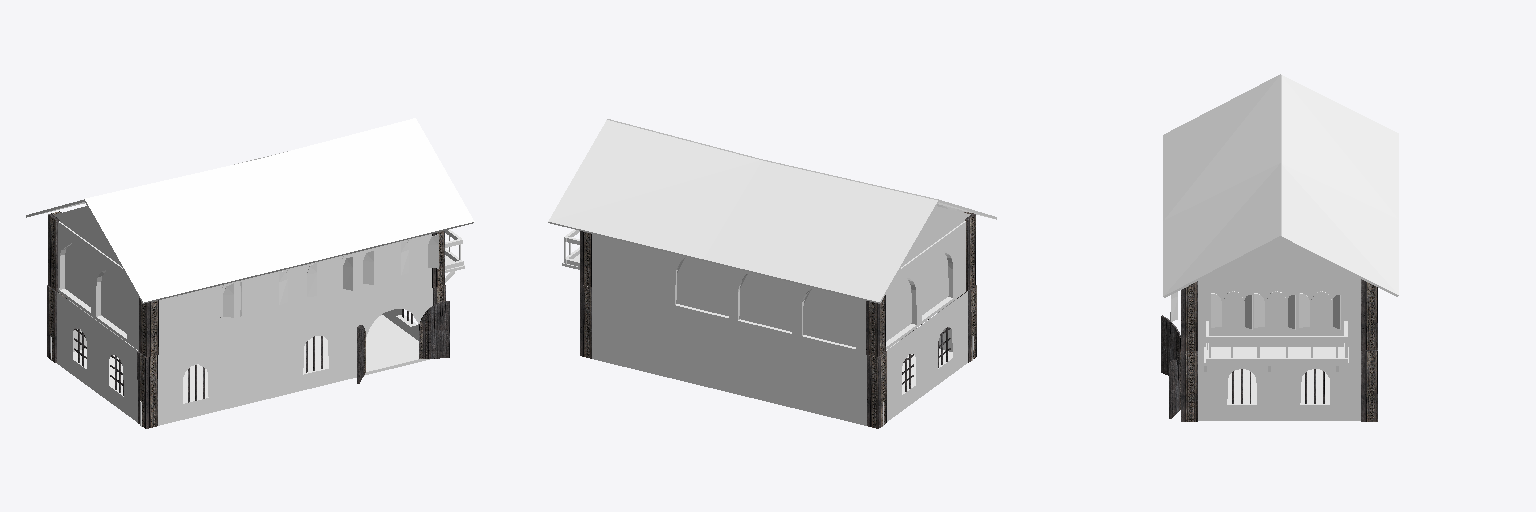
The picture shows the model from 3 angles: view 1: azimuth 30°, elevation 25°; view 2: azimuth 150°, elevation 25°; view 3: azimuth 270°, elevation 25°; orthographic projection.
Visible parts, largest first — view 1: DefaultLib2_roof_01, Material2, DefaultLib1_WoodPlanks_ornaments, DefaultLib2_dorwindow_set, DefaultLib2_WoodPlanks; view 2: DefaultLib2_roof_01, Material2, DefaultLib2_dorwindow_set, DefaultLib1_WoodPlanks_ornaments, DefaultLib2_WoodPlanks; view 3: DefaultLib2_roof_01, Material2, DefaultLib1_WoodPlanks_ornaments, DefaultLib2_dorwindow_set, DefaultLib2_WoodPlanks.
Part boxes in pixels (bbox=[...]): DefaultLib2_roof_01: bbox=[26, 118, 474, 303]; Material2: bbox=[54, 206, 432, 425]; DefaultLib1_WoodPlanks_ornaments: bbox=[47, 211, 449, 428]; DefaultLib2_dorwindow_set: bbox=[65, 234, 438, 333]; DefaultLib2_WoodPlanks: bbox=[50, 221, 464, 426]; DefaultLib2_roof_01: bbox=[548, 119, 996, 303]; Material2: bbox=[592, 206, 970, 425]; DefaultLib2_dorwindow_set: bbox=[676, 251, 948, 346]; DefaultLib1_WoodPlanks_ornaments: bbox=[580, 212, 976, 428]; DefaultLib2_WoodPlanks: bbox=[562, 204, 973, 426]; DefaultLib2_roof_01: bbox=[1163, 74, 1398, 297]; Material2: bbox=[1198, 239, 1360, 420]; DefaultLib1_WoodPlanks_ornaments: bbox=[1161, 279, 1377, 421]; DefaultLib2_dorwindow_set: bbox=[1170, 291, 1340, 329]; DefaultLib2_WoodPlanks: bbox=[1204, 321, 1348, 371].
Bounding box in the file's own units: 26.58 × 14.65 × 16.01.
5 materials, 1 textured.